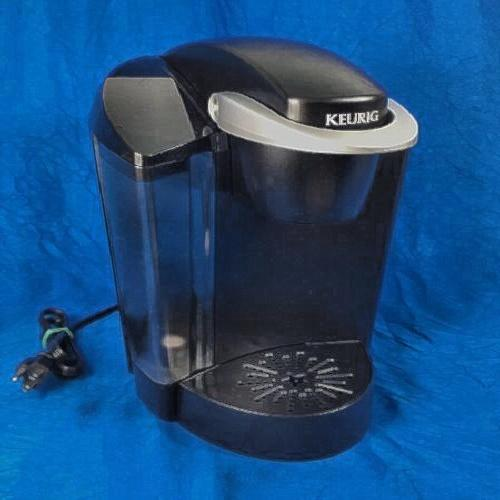coffee_maker: (95, 49, 421, 439)
